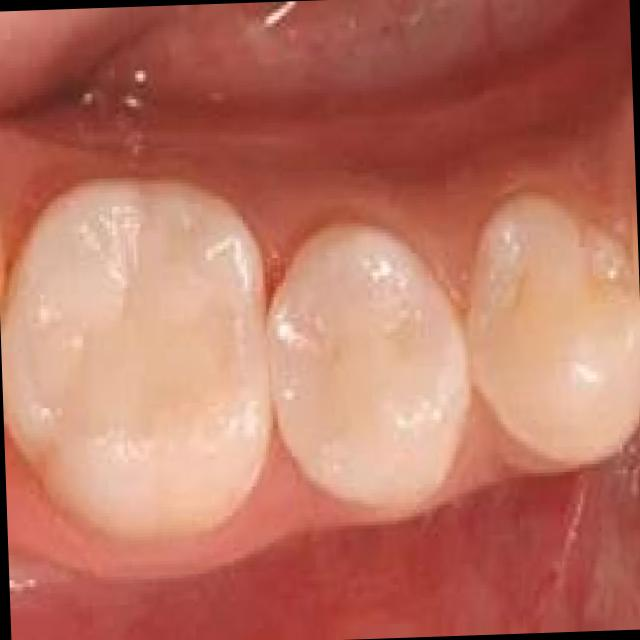Tooth: (0, 177, 272, 542), (267, 220, 468, 507), (468, 191, 640, 458)
